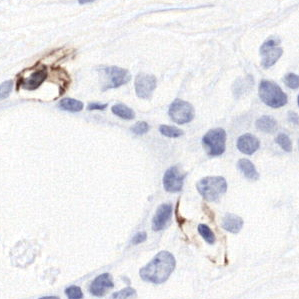Lymphocyte: (16, 60, 68, 95)
